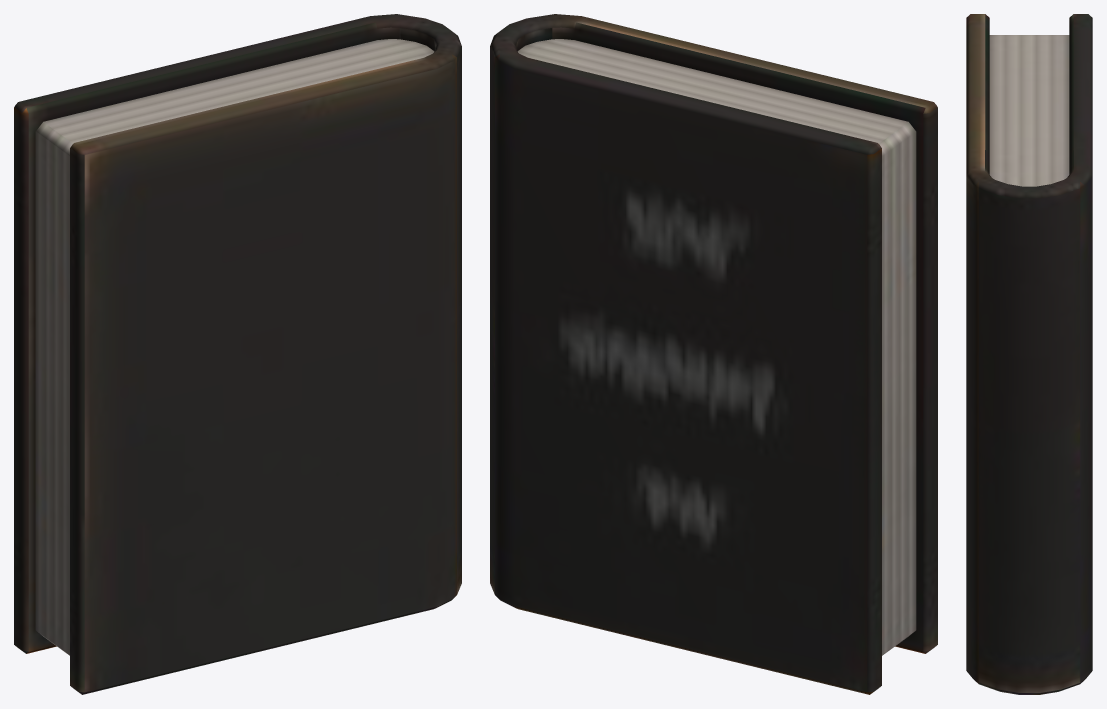
The model's file is SM_Book001_05.glb.
3 renders of one model, left to right at view 1: azimuth 30°, elevation 25°; view 2: azimuth 150°, elevation 25°; view 3: azimuth 270°, elevation 25°, orthographic. The views are drawn at different scales.
Visible parts, largest first — view 1: SM_Book001_05; view 2: SM_Book001_05; view 3: SM_Book001_05.
Part boxes in pixels (bbox=[...]): SM_Book001_05: bbox=[14, 14, 461, 694]; SM_Book001_05: bbox=[490, 14, 937, 694]; SM_Book001_05: bbox=[966, 14, 1092, 694].
Size of the model in its own units: 0.3111 by 0.3998 by 0.0912.
1 material, 1 textured.
